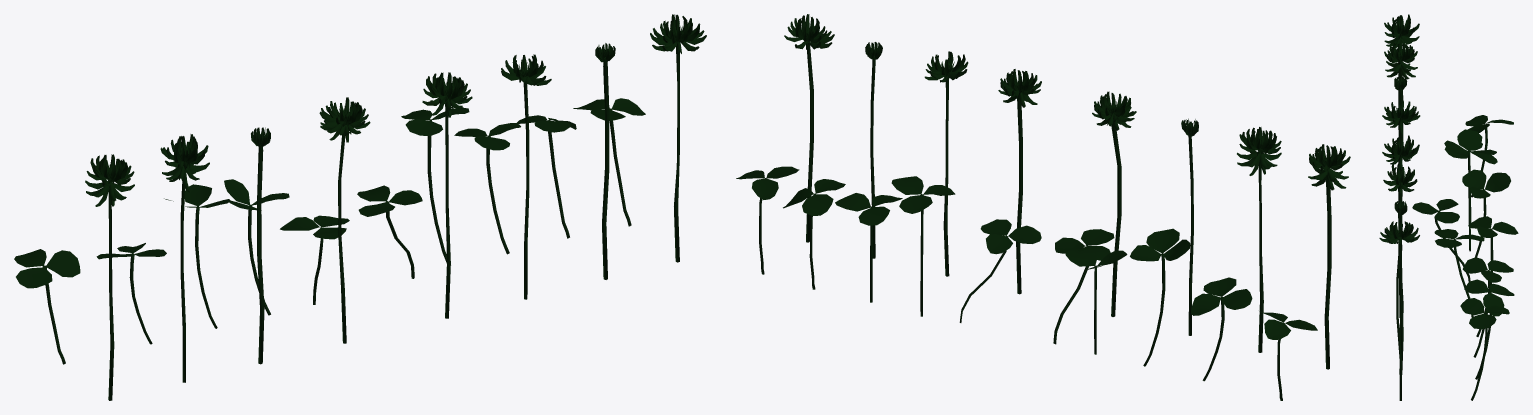
Rendered from plant.obj.
3 views of the same model, side by side, from view 1: azimuth 30°, elevation 25°; view 2: azimuth 150°, elevation 25°; view 3: azimuth 270°, elevation 25° (orthographic). The views are drawn at different scales.
Visible parts, largest first — view 1: flower_H_Cube.015, flower_G_Cube.005, flower_E_Cube.003, flower_D_Cube.002, flower_A_Cube.014, clover_10_Cube.021, flower_C_Cube.001, flower_F_Cube.004, flower_B_Cube.000, clover_5_Cube.018, clover_4_Cube.019, clover_3_Cube.020 (+6 smaller); view 2: flower_H_Cube.015, flower_G_Cube.005, flower_E_Cube.003, flower_D_Cube.002, flower_A_Cube.014, clover_8_Cube.007, clover_9_Cube.006, flower_C_Cube.001, clover_4_Cube.019, clover_5_Cube.018, clover_3_Cube.020, clover_2_Plane.008 (+6 smaller); view 3: flower_A_Cube.014, clover_7_Cube.008, clover_1_Plane.009, flower_G_Cube.005, clover_8_Cube.007, clover_2_Plane.008, clover_3_Cube.020, flower_H_Cube.015, flower_C_Cube.001, clover_6_Cube.017, flower_D_Cube.002, clover_4_Cube.019 (+6 smaller).
Part boxes in pixels (x1=…): flower_H_Cube.015: x1=85, y1=154, x2=134, y2=400; flower_G_Cube.005: x1=160, y1=134, x2=209, y2=382; flower_E_Cube.003: x1=319, y1=97, x2=370, y2=343; flower_D_Cube.002: x1=422, y1=72, x2=472, y2=318; flower_A_Cube.014: x1=650, y1=14, x2=706, y2=262; clover_10_Cube.021: x1=14, y1=249, x2=80, y2=364; flower_C_Cube.001: x1=501, y1=54, x2=551, y2=299; flower_F_Cube.004: x1=251, y1=127, x2=270, y2=364; flower_B_Cube.000: x1=595, y1=43, x2=615, y2=279; clover_5_Cube.018: x1=357, y1=185, x2=422, y2=278; clover_4_Cube.019: x1=401, y1=107, x2=469, y2=265; clover_3_Cube.020: x1=454, y1=123, x2=520, y2=254; flower_H_Cube.015: x1=1308, y1=144, x2=1350, y2=369; flower_G_Cube.005: x1=1237, y1=127, x2=1281, y2=352; flower_E_Cube.003: x1=1092, y1=91, x2=1136, y2=316; flower_D_Cube.002: x1=998, y1=69, x2=1041, y2=294; flower_A_Cube.014: x1=784, y1=14, x2=834, y2=242; clover_8_Cube.007: x1=1130, y1=228, x2=1190, y2=366; clover_9_Cube.006: x1=1191, y1=277, x2=1252, y2=381; flower_C_Cube.001: x1=924, y1=51, x2=968, y2=276; clover_4_Cube.019: x1=891, y1=176, x2=955, y2=316; clover_5_Cube.018: x1=959, y1=219, x2=1041, y2=322; clover_3_Cube.020: x1=835, y1=193, x2=902, y2=302; clover_2_Plane.008: x1=783, y1=179, x2=845, y2=289; flower_A_Cube.014: x1=1379, y1=221, x2=1419, y2=400; clover_7_Cube.008: x1=1462, y1=169, x2=1510, y2=257; clover_1_Plane.009: x1=1460, y1=298, x2=1509, y2=400; flower_G_Cube.005: x1=1384, y1=43, x2=1417, y2=222; clover_8_Cube.007: x1=1444, y1=129, x2=1496, y2=251; clover_2_Plane.008: x1=1464, y1=279, x2=1514, y2=379; clover_3_Cube.020: x1=1462, y1=257, x2=1513, y2=357; flower_H_Cube.015: x1=1384, y1=14, x2=1419, y2=136; flower_C_Cube.001: x1=1383, y1=163, x2=1417, y2=339; clover_6_Cube.017: x1=1412, y1=199, x2=1470, y2=281; flower_D_Cube.002: x1=1382, y1=135, x2=1419, y2=317; clover_4_Cube.019: x1=1468, y1=216, x2=1518, y2=336.
Bounding box in the file's own units: 24.38 × 8.99 × 6.32.
